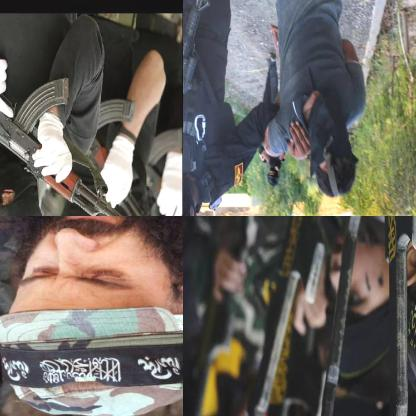rifle: (0, 73, 137, 215), (241, 216, 334, 415), (314, 216, 384, 415), (84, 135, 172, 215), (382, 216, 415, 415), (183, 0, 219, 175)
